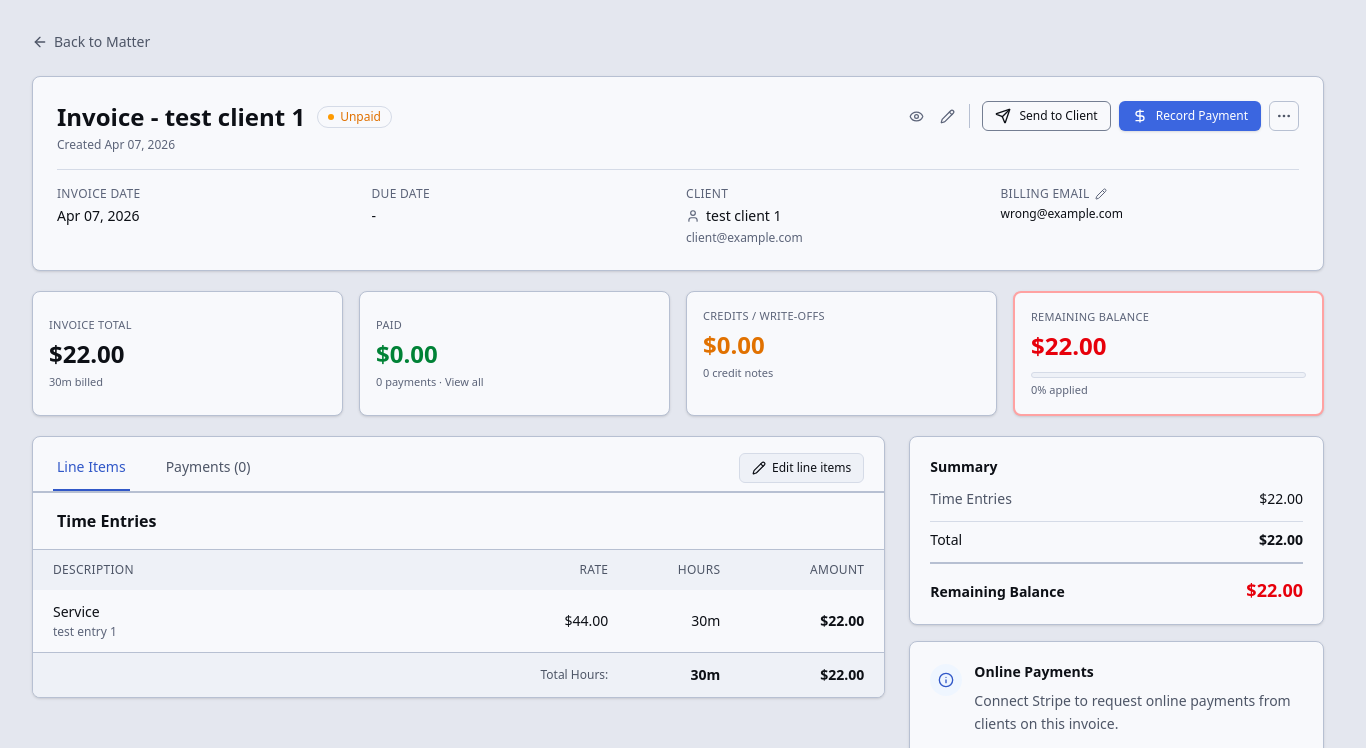
InvoiceDetailView › lets an invoice manager correct the billing email from beside it
Click the button named "Edit billing email" at (1102, 194), box [1094,186,1110,202]
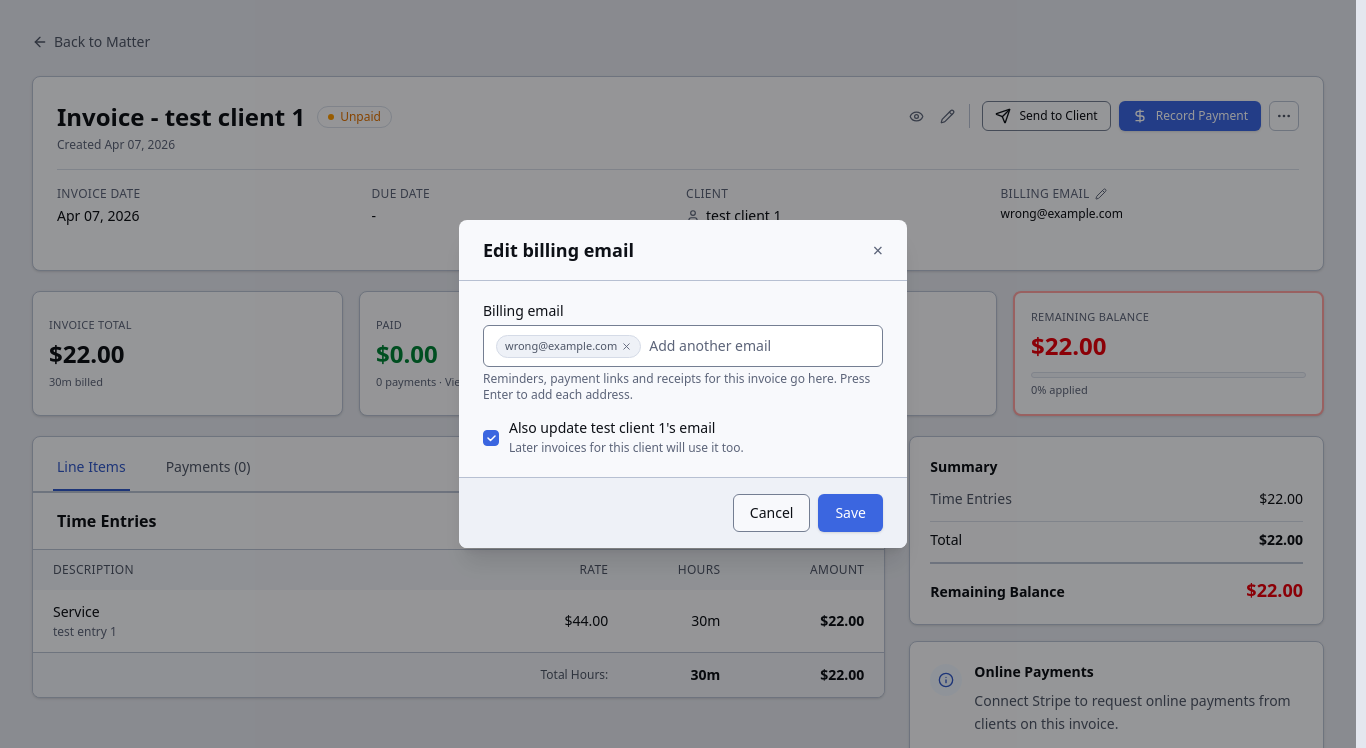
Result: the button named "Remove wrong@example.com" is shown at [621,341,632,352]
